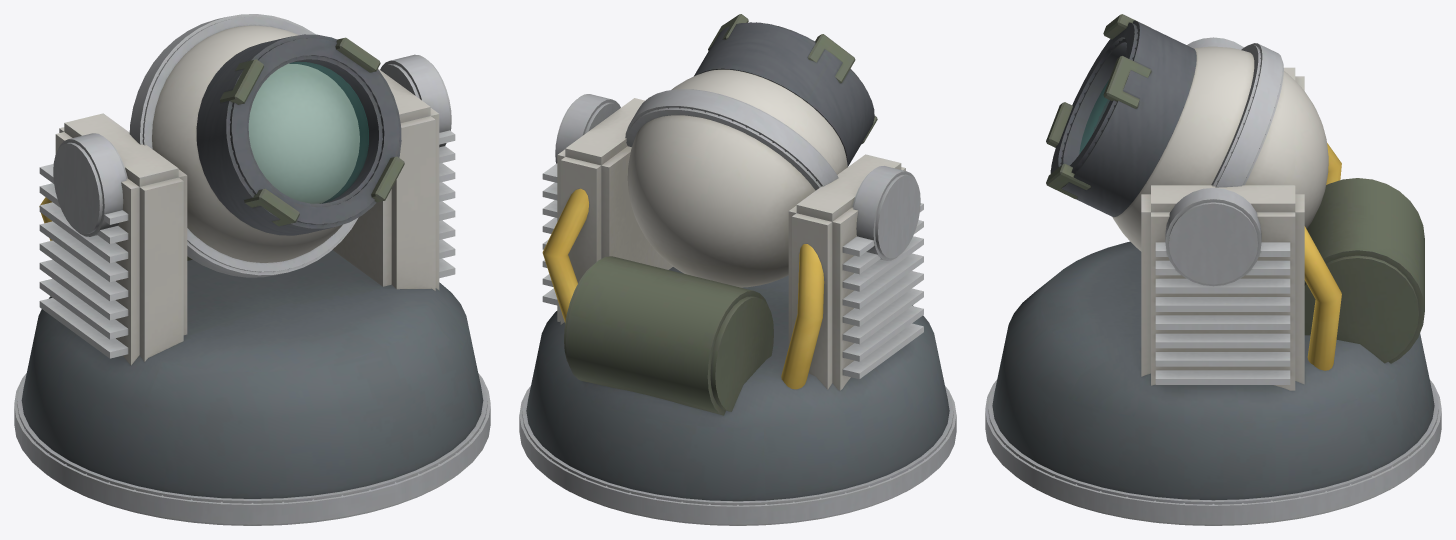
The model's file is att_laser_pd.glb.
3 renders of one model, left to right at view 1: azimuth 30°, elevation 25°; view 2: azimuth 150°, elevation 25°; view 3: azimuth 270°, elevation 25°, orthographic. The views are drawn at different scales.
Visible parts, largest first — view 1: TEX_Laser_PD_Mesh, LaserPD_Lens_Glass.001; view 2: TEX_Laser_PD_Mesh; view 3: TEX_Laser_PD_Mesh, LaserPD_Lens_Glass.001.
Part boxes in pixels (bbox=[...]): TEX_Laser_PD_Mesh: bbox=[14, 14, 490, 525]; LaserPD_Lens_Glass.001: bbox=[249, 62, 368, 203]; TEX_Laser_PD_Mesh: bbox=[519, 14, 956, 525]; TEX_Laser_PD_Mesh: bbox=[985, 14, 1441, 525]; LaserPD_Lens_Glass.001: bbox=[1079, 80, 1109, 153].
Bounding box in the file's own units: 0.95 × 0.9222 × 0.95.
2 materials, 1 textured.
